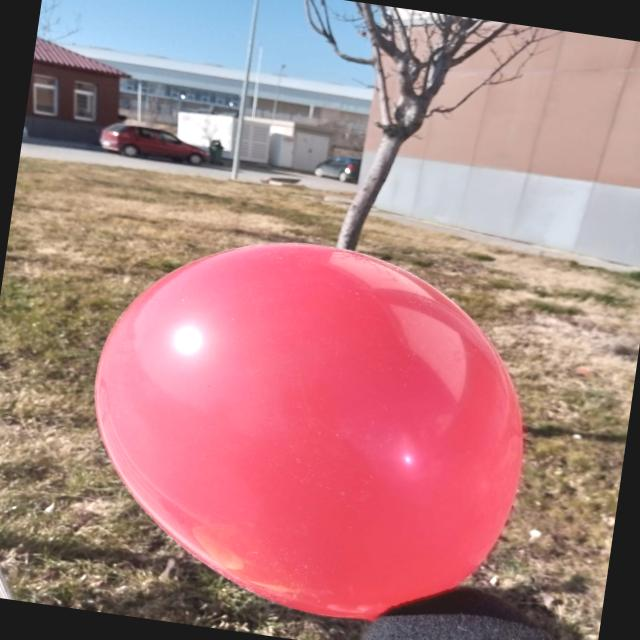balloon: (96, 243, 523, 619)
